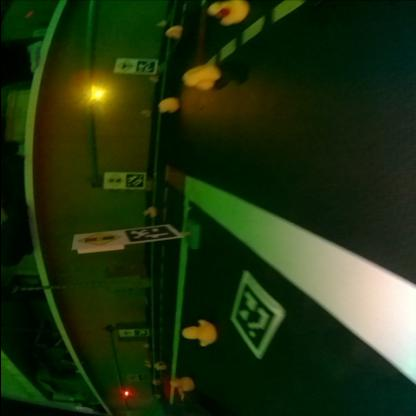Duckie: (206, 2, 244, 26), (180, 66, 218, 90), (182, 321, 213, 347), (156, 98, 178, 114), (170, 378, 192, 392), (164, 26, 182, 39), (142, 208, 154, 218), (152, 364, 164, 371), (140, 112, 150, 117), (148, 77, 156, 82)
Intersection sign: (115, 60, 133, 72), (119, 331, 131, 337)
QR code: (229, 272, 283, 358), (123, 226, 176, 243), (134, 61, 154, 74), (124, 174, 142, 188)
Signal sign: (76, 231, 119, 247)
